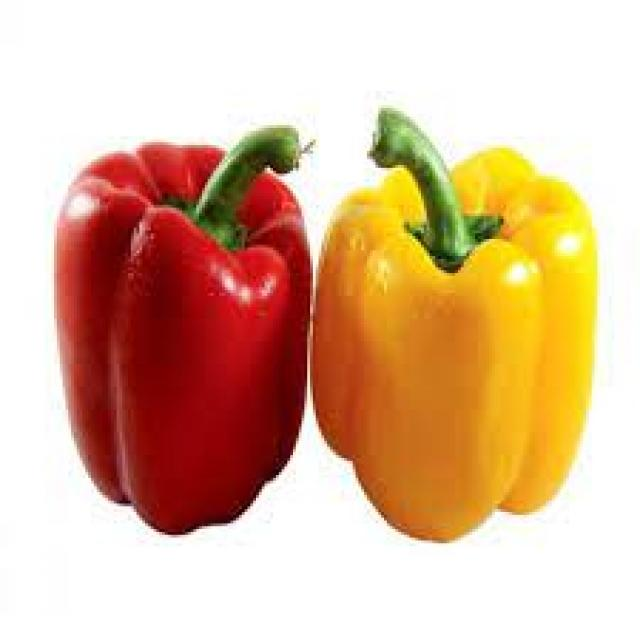pepper: (57, 121, 310, 536)
